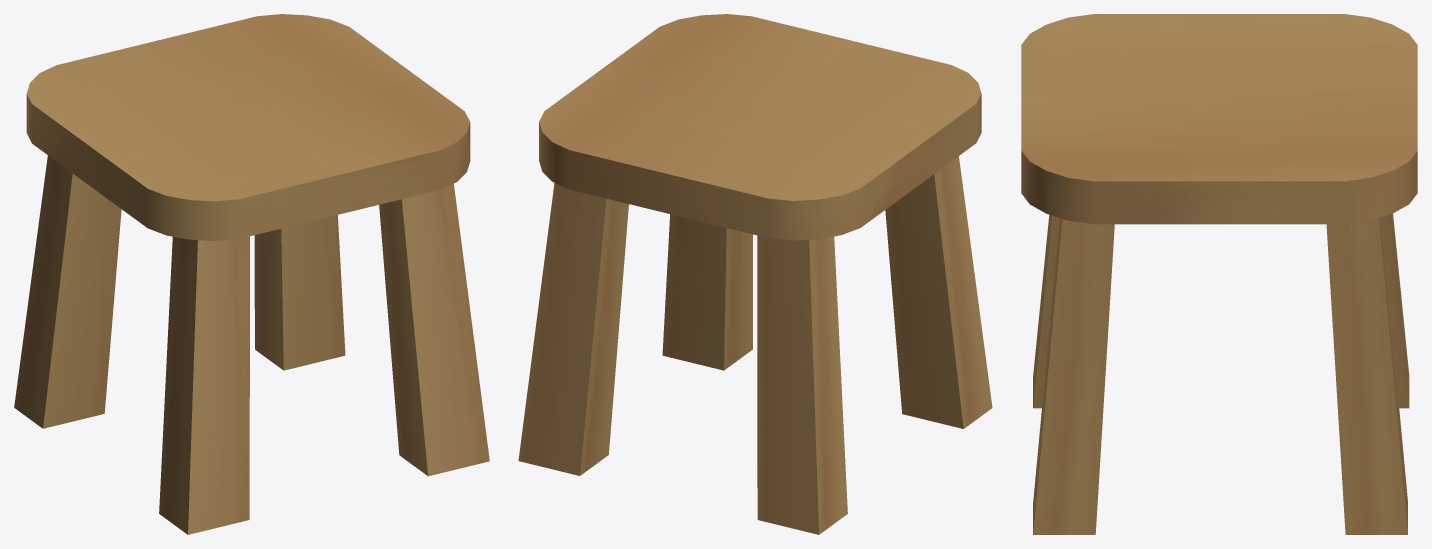
Rendered from kursipel2.fbx.
3 renders of one model, left to right at view 1: azimuth 30°, elevation 25°; view 2: azimuth 150°, elevation 25°; view 3: azimuth 270°, elevation 25°, orthographic. The views are drawn at different scales.
Parts seen in each view (by area): view 1: kursi kecil; view 2: kursi kecil; view 3: kursi kecil.
Part boxes in pixels (x1,y1,x2,y2): kursi kecil: (14,14,489,534); kursi kecil: (518,14,992,534); kursi kecil: (1021,14,1417,534).
Bounding box in the file's own units: 200 × 198 × 200.
